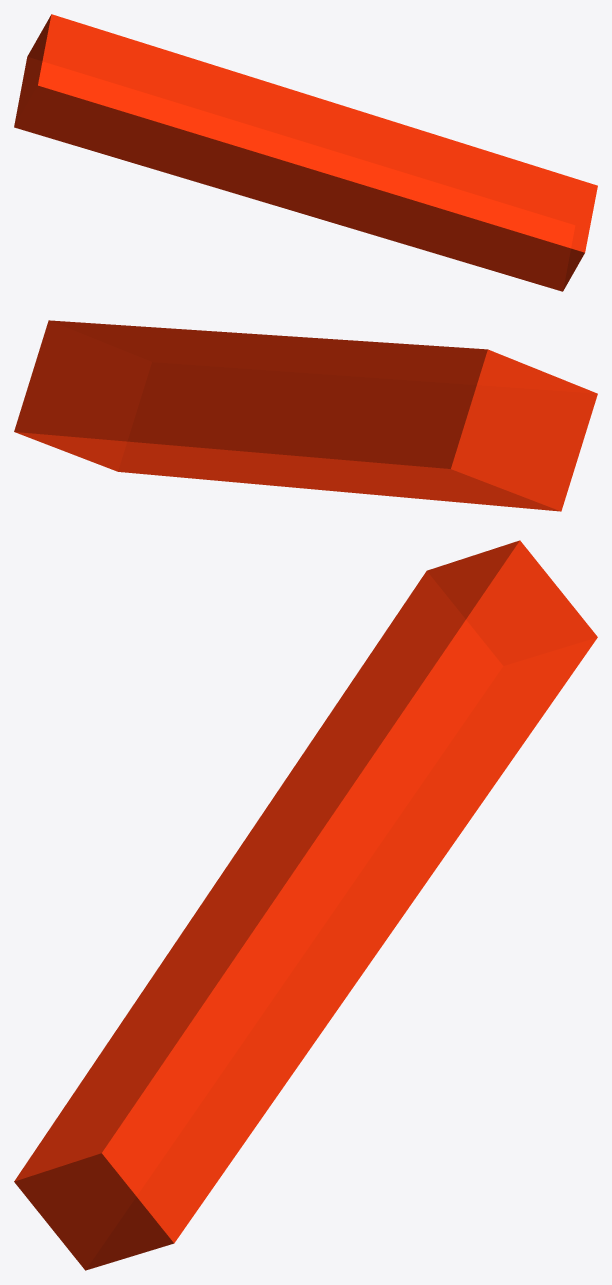
Rendered from Event_421115418_EBrechit_15.fbx.
The picture shows the model from 3 angles, top to bottom: view 1: azimuth 30°, elevation 25°; view 2: azimuth 150°, elevation 25°; view 3: azimuth 270°, elevation 25°; orthographic projection. The views are drawn at different scales.
Parts seen in each view (by area): view 1: Model; view 2: Model; view 3: Model.
Boxes of the visible parts, left/top/right/bottom form: Model: left=14, top=14, right=597, bottom=291; Model: left=14, top=320, right=597, bottom=511; Model: left=14, top=540, right=597, bottom=1270.
Bounding box in the file's own units: 0.3885 × 0.2188 × 0.2662.
